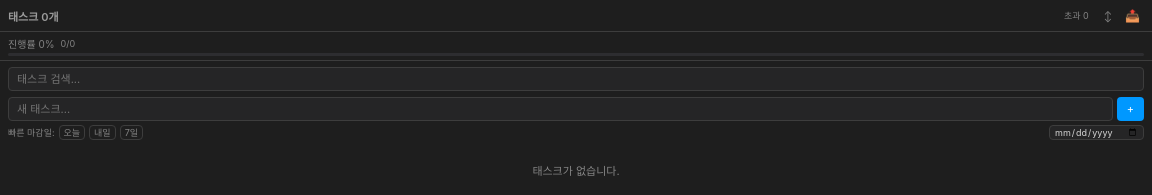
Scenario: TasksPanel › + 버튼 클릭으로 태스크를 추가할 수 있다
Step 1. Type "버튼 추가 태스크" into the field with placeholder "새 태스크..." → (560, 109), box [8,97,1113,121]
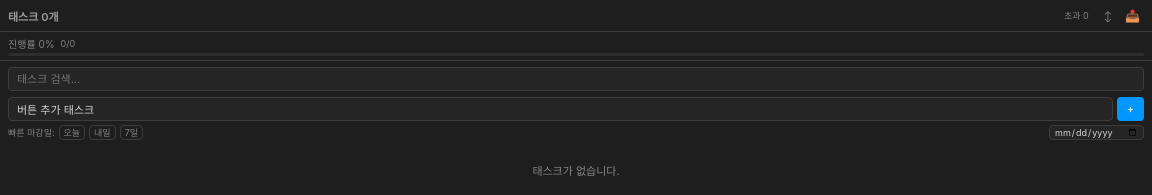
Step 2. Click the button titled "추가" → (1130, 109), box [1117,97,1144,121]
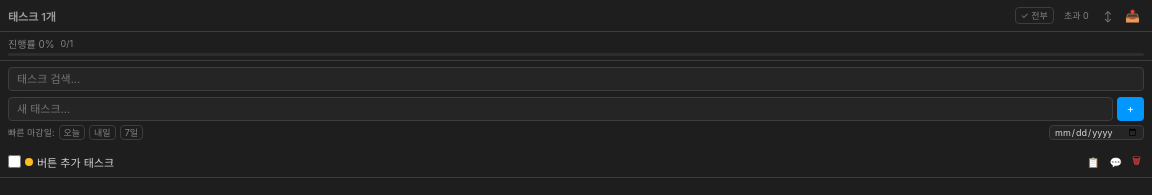
Now the text "버튼 추가 태스크" is shown, box [37,156,114,170]
